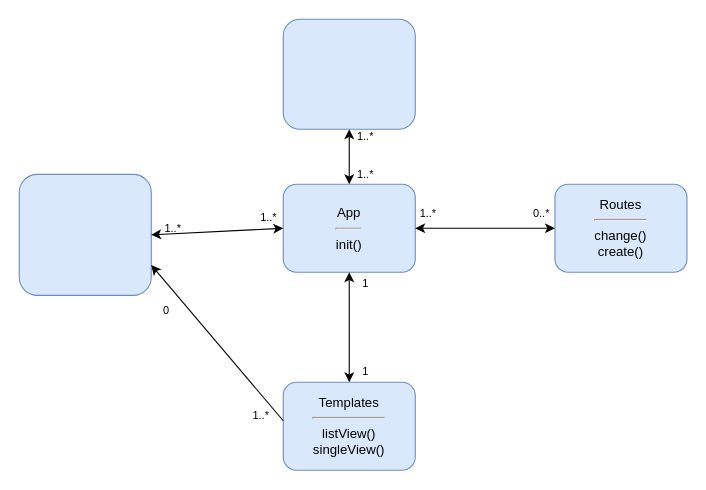
Some shapes in this 706 by 490 pixel diagram are drawn without their labels. Each missing label, with the centre of its shape:
"Api xhttp KEY URL setup()" belongs at point 348,73.
"Books title author description image" belongs at point 84,234.
